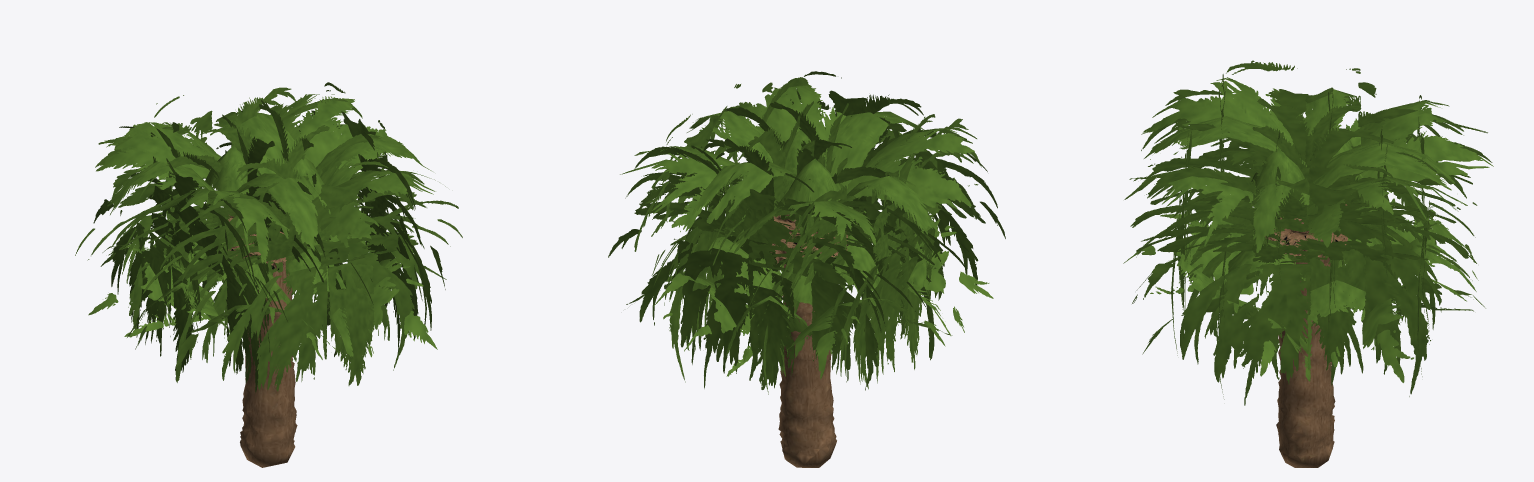
The model's file is palm-fan-mid.glb.
3 views of the same model, side by side, from view 1: azimuth 30°, elevation 25°; view 2: azimuth 150°, elevation 25°; view 3: azimuth 270°, elevation 25° (orthographic). The views are drawn at different scales.
Parts seen in each view (by area): view 1: Foliage, Wood; view 2: Foliage, Wood; view 3: Foliage, Wood.
Boxes of the visible parts, left/top/right/bottom form: Foliage: left=75, top=82, right=462, bottom=392; Wood: left=228, top=214, right=297, bottom=467; Foliage: left=608, top=71, right=1005, bottom=394; Wood: left=770, top=214, right=848, bottom=467; Foliage: left=1123, top=60, right=1493, bottom=405; Wood: left=1265, top=204, right=1347, bottom=467.
Size of the model in its own units: 12.78 by 13.01 by 12.94.
Materials: 2 (2 with a texture image).
